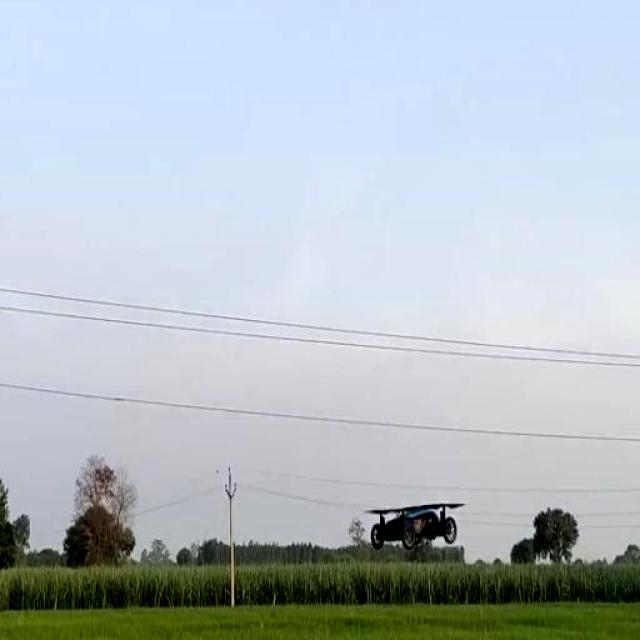bird: (364, 471, 466, 564)
